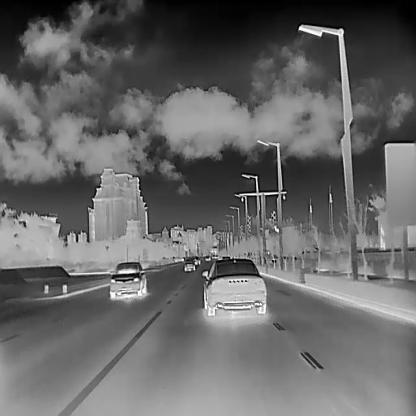car: (201, 257, 266, 314), (109, 261, 145, 298), (183, 257, 194, 270), (193, 255, 200, 264), (204, 254, 210, 260), (212, 254, 215, 259)
